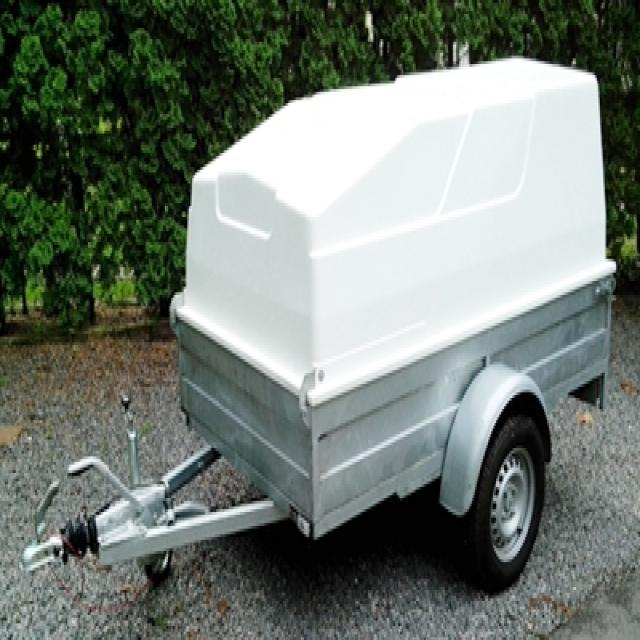trailer: (174, 59, 616, 542)
